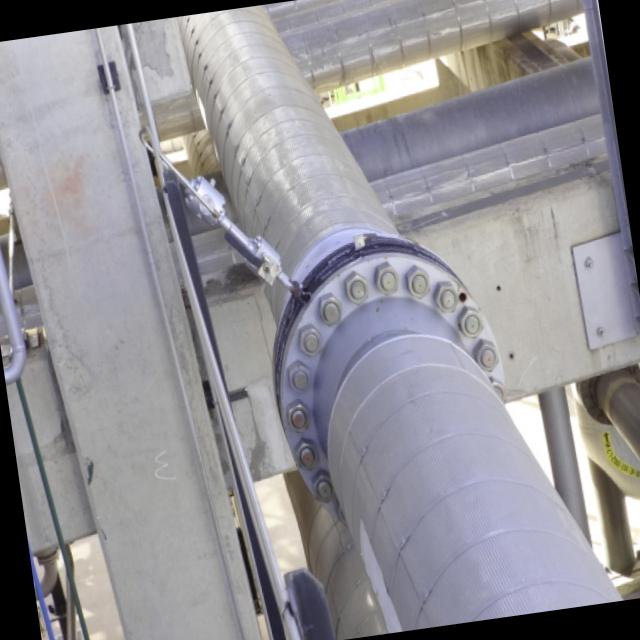gas: (172, 5, 627, 633)
